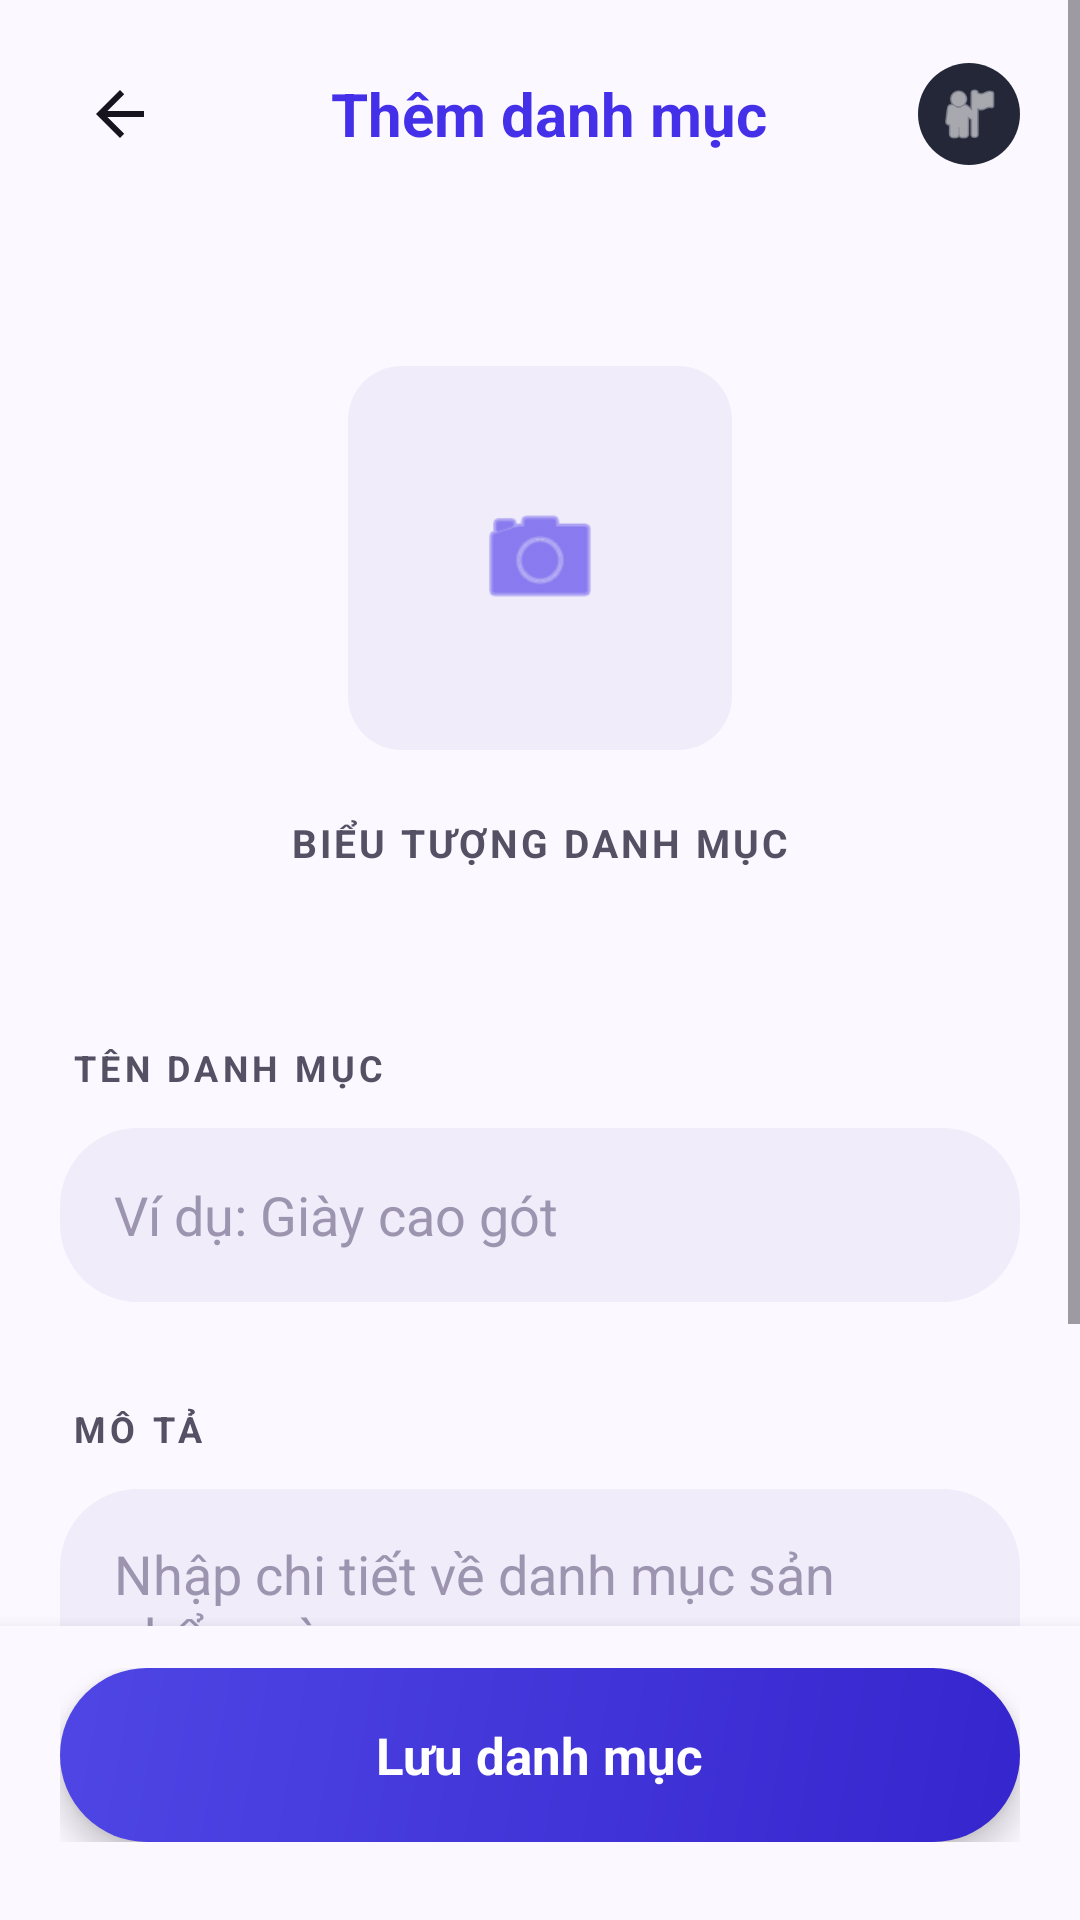

Icons on this 1080*1920 Android screen, each with its box as [x1=x1, y1=y1, x2=x2, y2=y2]:
camera: [x1=489, y1=515, x2=591, y2=597]
Quay lại: [x1=96, y1=90, x2=144, y2=138]
Tài khoản quản trị: [x1=918, y1=63, x2=1020, y2=165]
